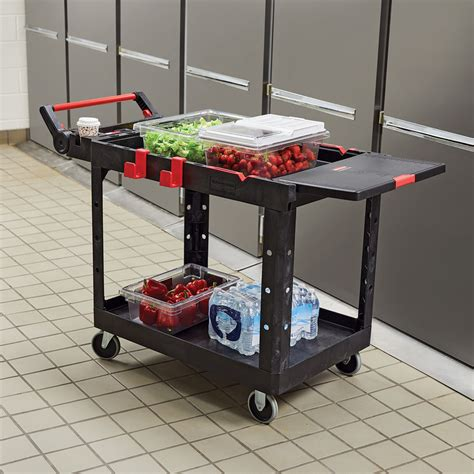Carts: (39, 89, 446, 425)
